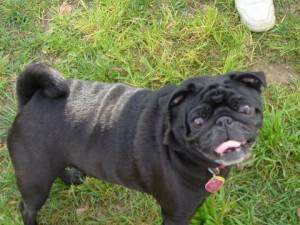dog-pug: (166, 70, 265, 164)
